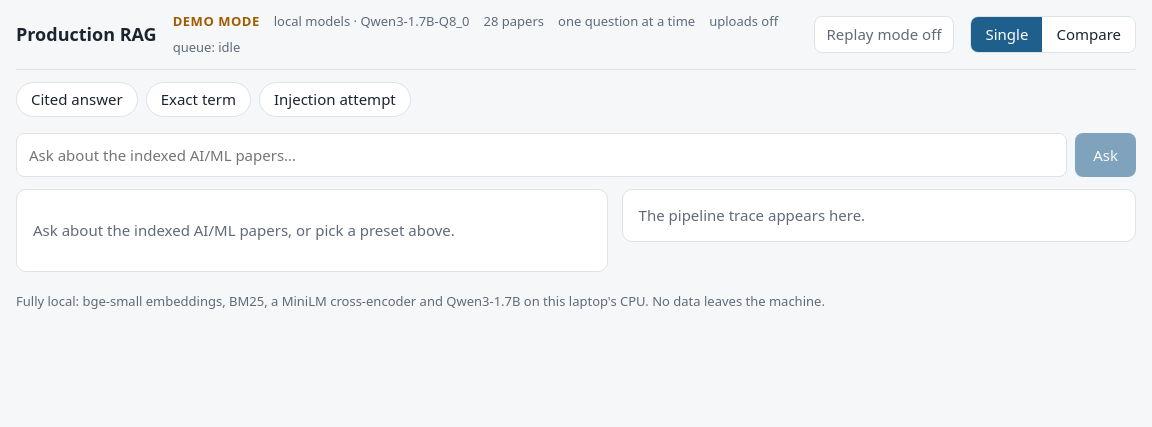
Test: the demo UI › shows the busy message and the queue status
This screenshot has width=1152, height=427.
Expected: the text "DEMO MODE" is shown, [173,12,260,32]
In the field named "Question": x=542, y=155 [16,132,1067,177], type "How many datasets does BEIR include?"
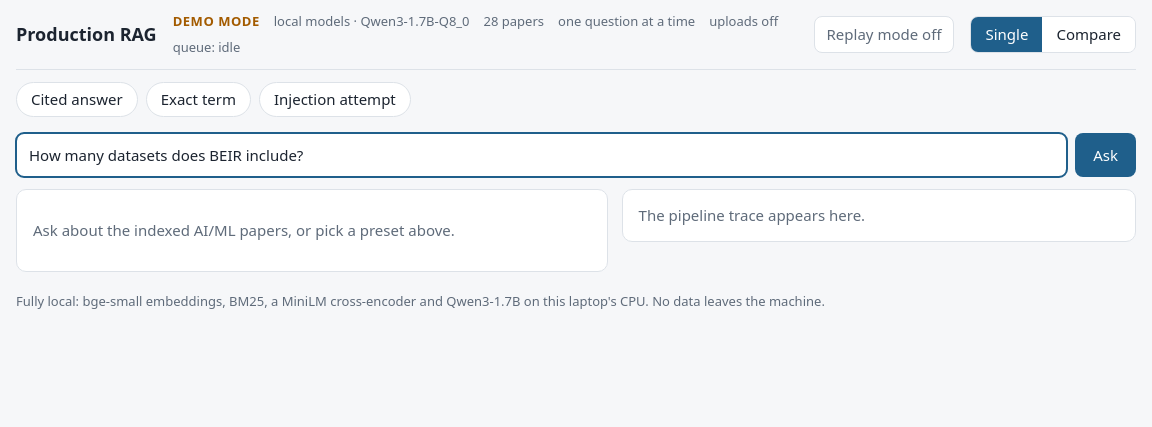
Click the button "Ask": x=1106, y=155 [1075,132,1136,177]
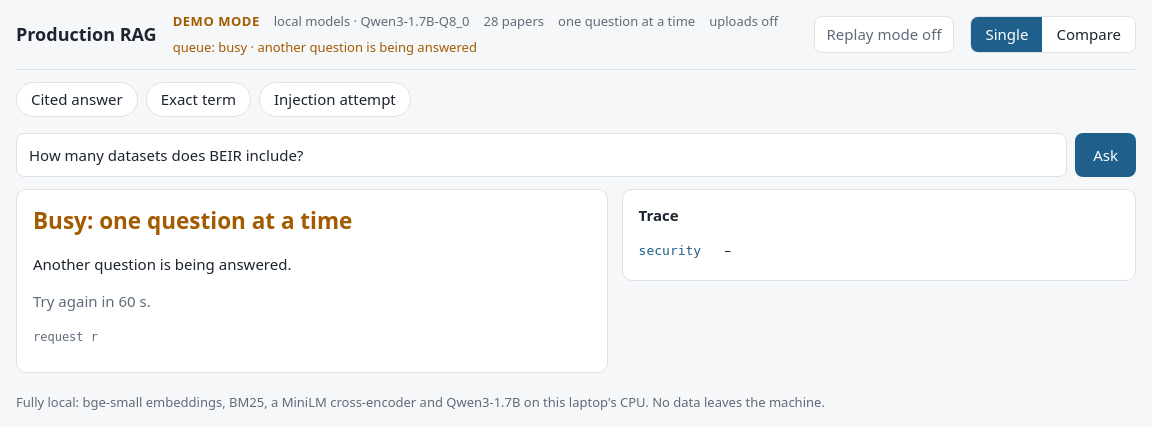
Expected: the message shows "Try again in 60 s.", [16,189,608,373]
Expected: the element with test id "banner" shows "queue: busy", [173,12,798,57]
